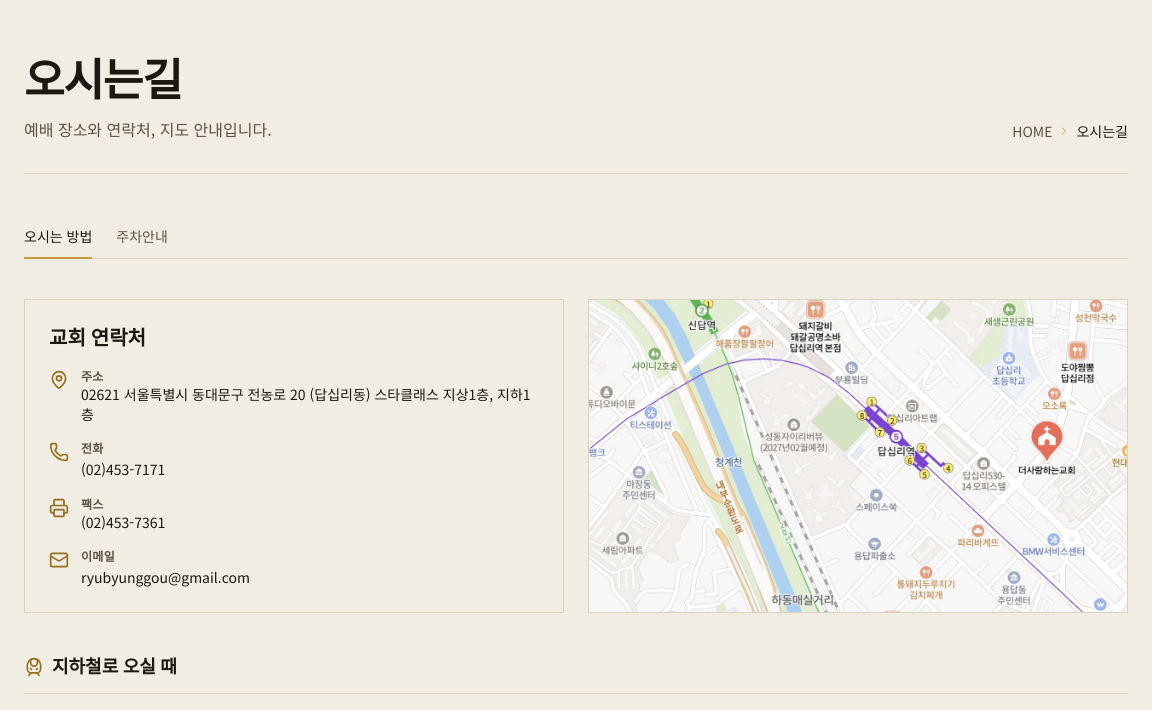
Test: ContactPage tabs › switches to the 주차안내 tab and shows the parking section
This screenshot has width=1152, height=710.
Check: the heading "교회 연락처" is shown, box [49,327,146,349]
Click the tab "주차안내" at (142, 236), box [116,214,168,258]
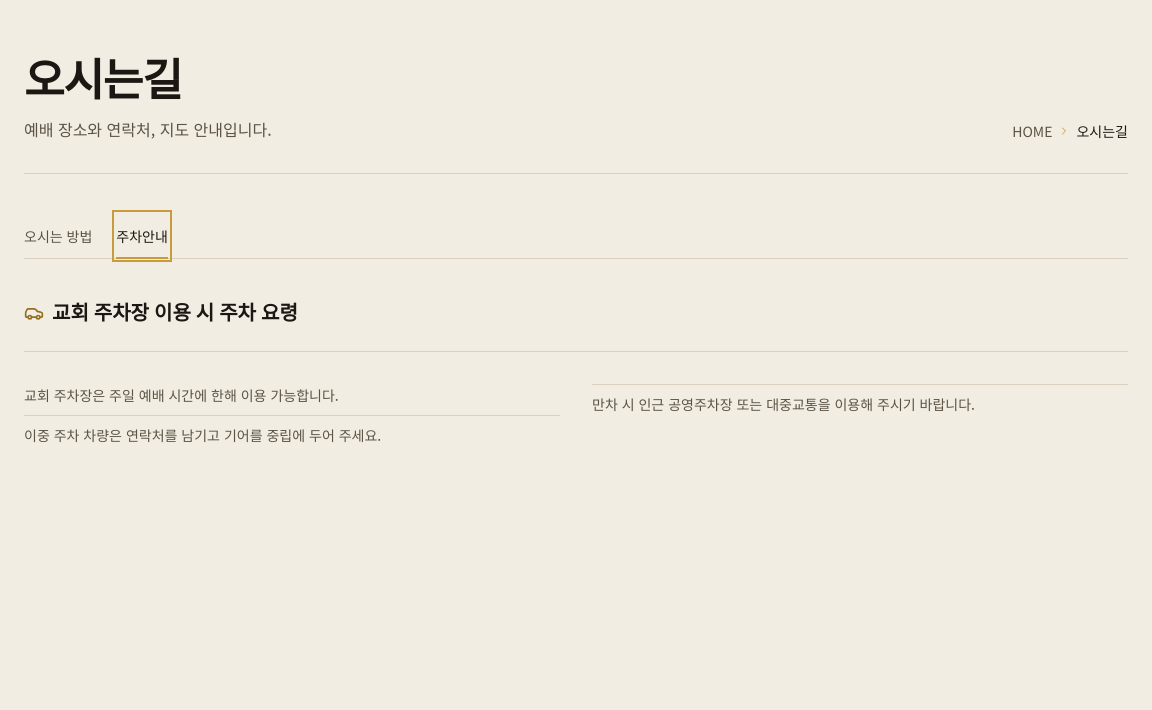
Check: the heading "교회 주차장 이용 시 주차 요령" is shown, box [24,299,1128,352]
Check: the heading "교회 연락처" is gone
